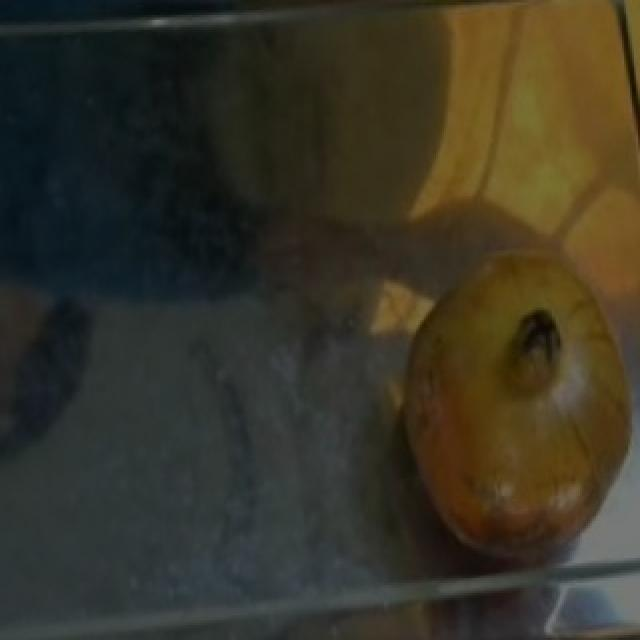fruit: (390, 360, 634, 588)
